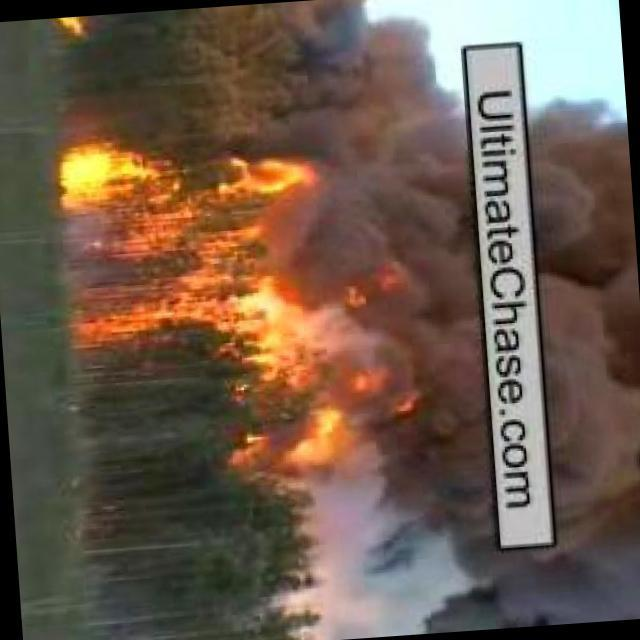Fire: (56, 126, 368, 360), (227, 364, 424, 487), (56, 17, 91, 43)
